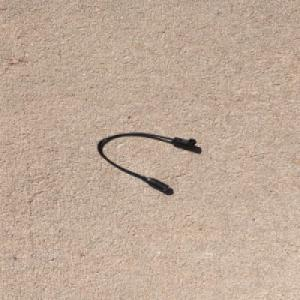Wire: (96, 131, 198, 192)
